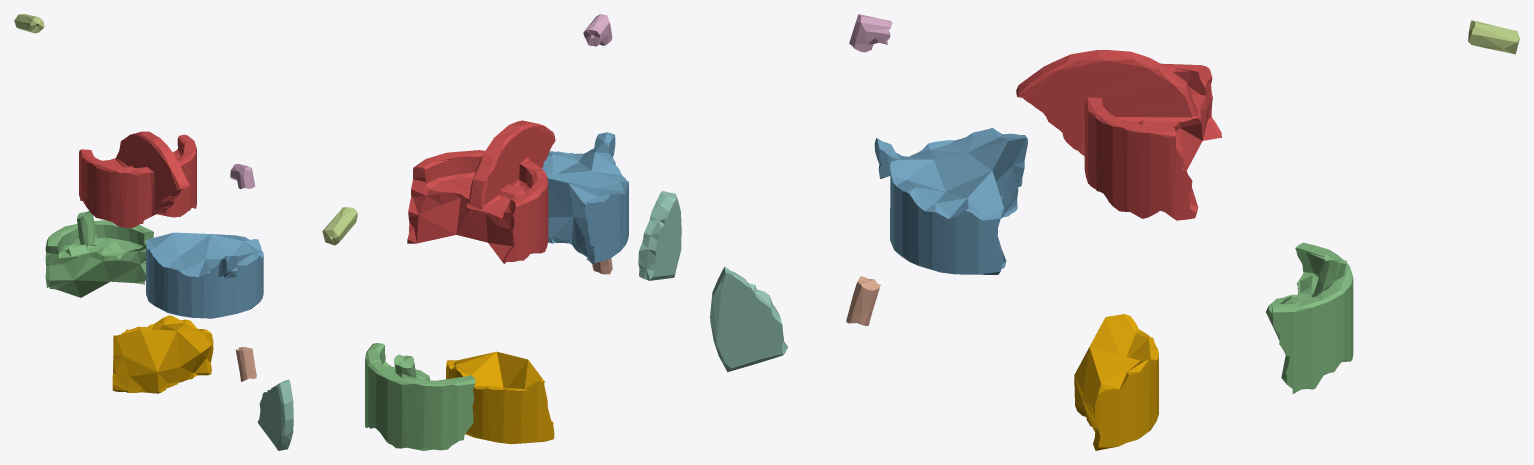
The model's file is fractured_61_8pcs_transformed.glb.
The picture shows the model from 3 angles, left to right: view 1: azimuth 30°, elevation 25°; view 2: azimuth 150°, elevation 25°; view 3: azimuth 270°, elevation 25°; orthographic projection. The views are drawn at different scales.
Visible parts, largest first — view 1: piece_2.obj, piece_1.obj, piece_3.obj, piece_0.obj, piece_4.obj, piece_7.obj, piece_6.obj, piece_5.obj; view 2: piece_1.obj, piece_3.obj, piece_2.obj, piece_0.obj, piece_4.obj, piece_5.obj, piece_6.obj; view 3: piece_1.obj, piece_2.obj, piece_3.obj, piece_0.obj, piece_4.obj, piece_5.obj, piece_6.obj, piece_7.obj.
Part boxes in pixels (x1=…): piece_2.obj: x1=146, y1=232, x2=263, y2=318; piece_1.obj: x1=79, y1=131, x2=196, y2=228; piece_3.obj: x1=45, y1=211, x2=153, y2=297; piece_0.obj: x1=112, y1=315, x2=213, y2=393; piece_4.obj: x1=257, y1=379, x2=293, y2=450; piece_7.obj: x1=235, y1=347, x2=256, y2=381; piece_6.obj: x1=230, y1=164, x2=255, y2=188; piece_5.obj: x1=14, y1=14, x2=44, y2=33; piece_1.obj: x1=407, y1=120, x2=555, y2=263; piece_3.obj: x1=365, y1=343, x2=475, y2=450; piece_2.obj: x1=542, y1=132, x2=628, y2=263; piece_0.obj: x1=446, y1=351, x2=554, y2=444; piece_4.obj: x1=638, y1=191, x2=681, y2=280; piece_5.obj: x1=322, y1=207, x2=357, y2=245; piece_6.obj: x1=583, y1=14, x2=612, y2=46; piece_1.obj: x1=1016, y1=50, x2=1221, y2=220; piece_2.obj: x1=874, y1=128, x2=1027, y2=274; piece_3.obj: x1=1266, y1=242, x2=1353, y2=393; piece_0.obj: x1=1074, y1=314, x2=1158, y2=450; piece_4.obj: x1=710, y1=266, x2=787, y2=372; piece_5.obj: x1=1468, y1=20, x2=1519, y2=54; piece_6.obj: x1=849, y1=14, x2=892, y2=52; piece_7.obj: x1=846, y1=276, x2=880, y2=325.
Bounding box in the file's own units: 0.5301 × 1.38 × 2.5.
